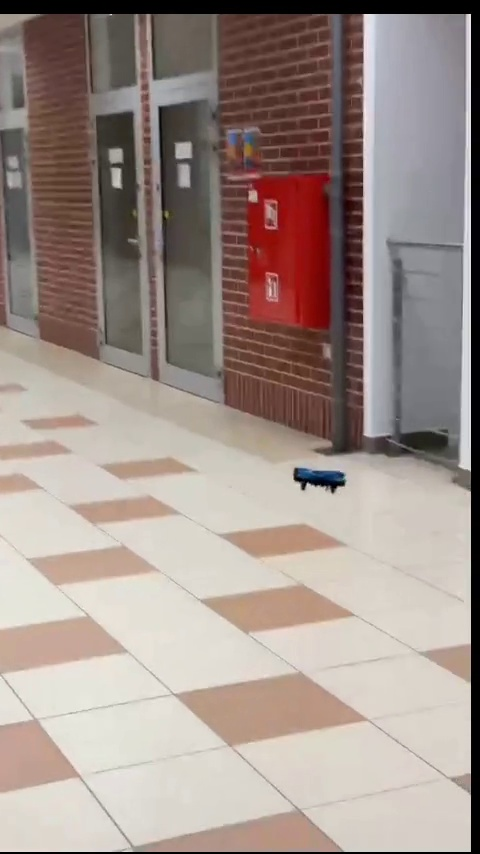drone: (288, 463, 345, 494)
